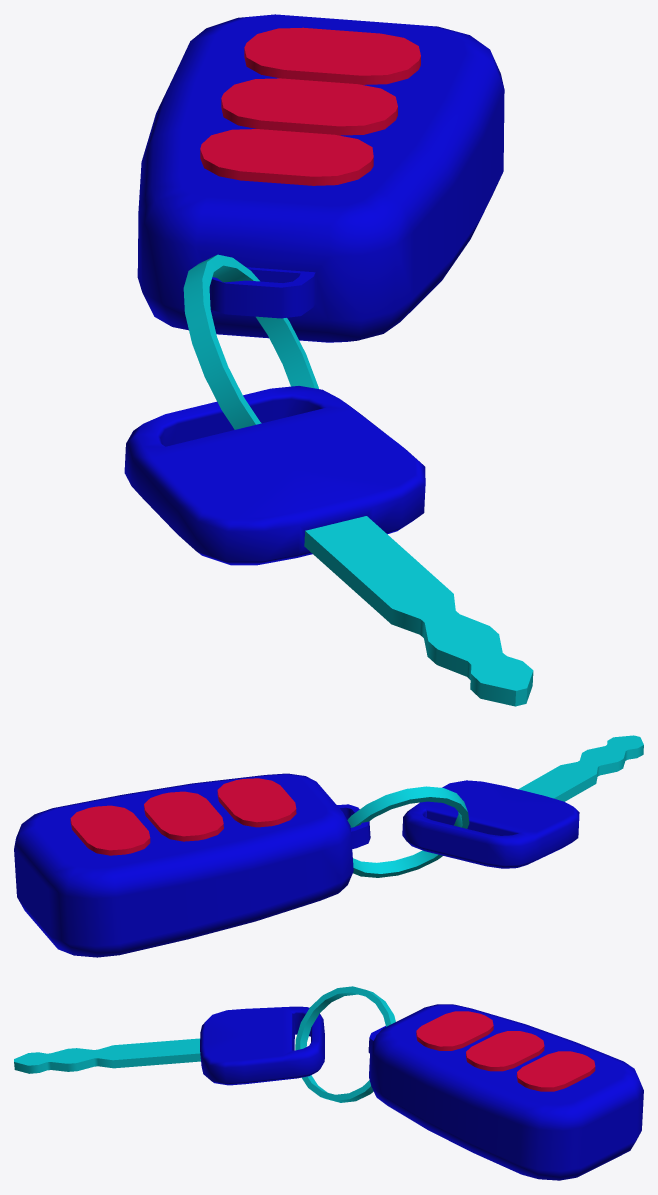
The model's file is CarKeys.fbx.
The picture shows the model from 3 angles, top to bottom: view 1: azimuth 30°, elevation 25°; view 2: azimuth 150°, elevation 25°; view 3: azimuth 270°, elevation 25°; orthographic projection. The views are drawn at different scales.
Parts seen in each view (by area): view 1: CarKeys; view 2: CarKeys; view 3: CarKeys.
Boxes of the visible parts, box(x1,y1,x2,y2) form: CarKeys: box(124, 14, 533, 706); CarKeys: box(14, 735, 643, 957); CarKeys: box(14, 986, 643, 1180).
Size of the model in its own units: 153 by 46.71 by 270.
